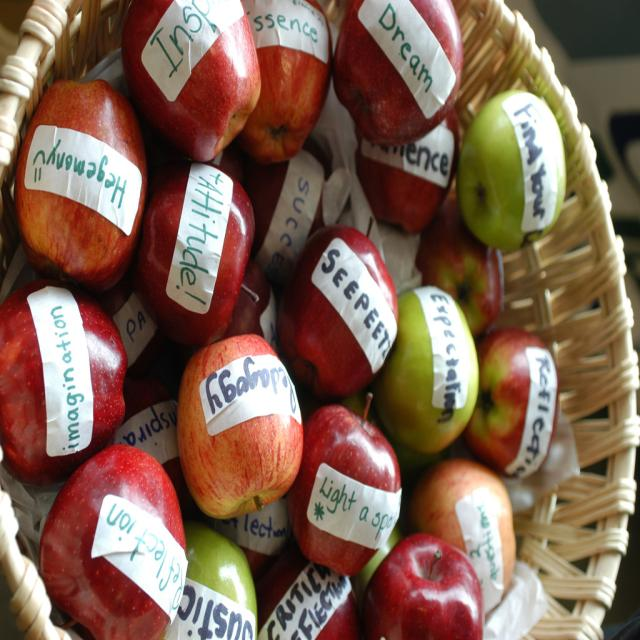Healty Apple: (0, 0, 569, 639), (368, 544, 481, 640)
